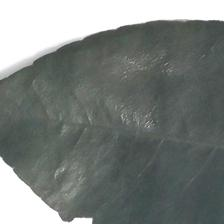healthy: (13, 31, 224, 224)
